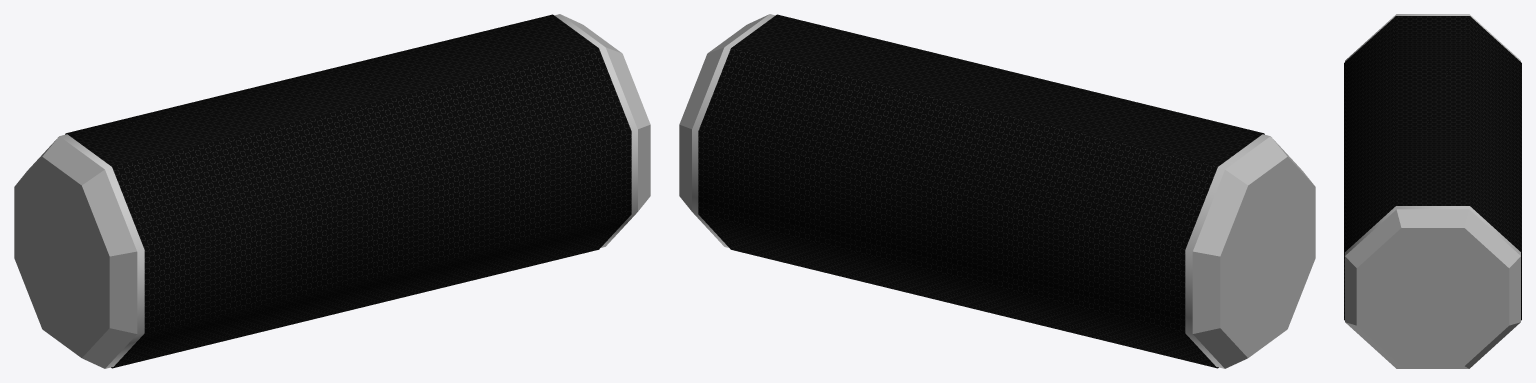
The model's file is Itr_Obj_Speaker5_01.FBX.
The picture shows the model from 3 angles, left to right: view 1: azimuth 30°, elevation 25°; view 2: azimuth 150°, elevation 25°; view 3: azimuth 270°, elevation 25°; orthographic projection. The views are drawn at different scales.
Visible parts, largest first — view 1: Itr_Obj_Speaker5_01; view 2: Itr_Obj_Speaker5_01; view 3: Itr_Obj_Speaker5_01.
Boxes of the visible parts, box(x1,y1,x2,y2) form: Itr_Obj_Speaker5_01: box(14, 14, 650, 368); Itr_Obj_Speaker5_01: box(679, 14, 1315, 368); Itr_Obj_Speaker5_01: box(1344, 14, 1521, 368).
Bounding box in the file's own units: 22.7 × 8.08 × 8.08.
